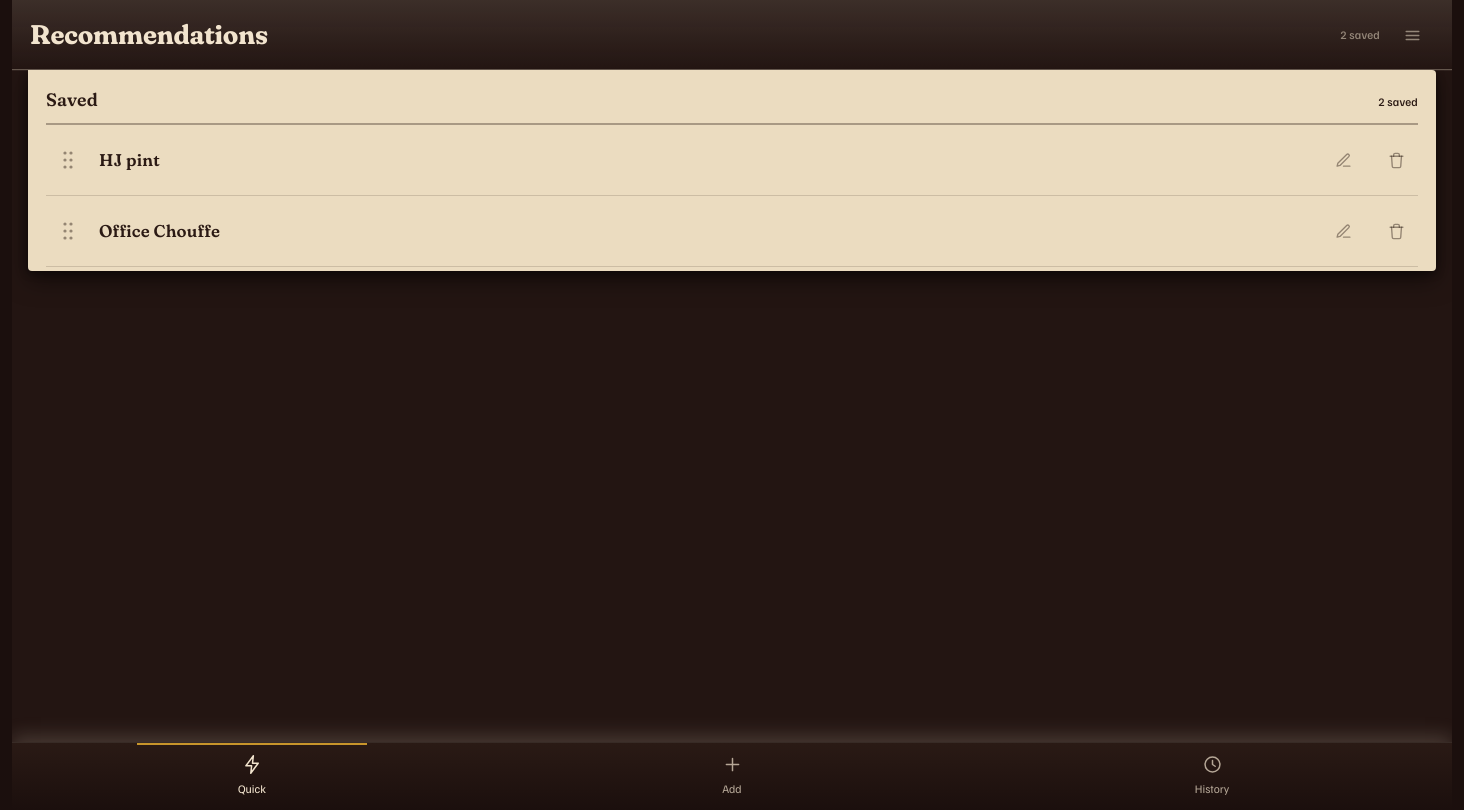
Test: RecommendationsPage › shows Save and Cancel once a name is renamed, and shows the new name
This screenshot has width=1464, height=810.
Check: the text "HJ pint" is shown, box [99, 149, 160, 170]
Click the button named "Rename HJ pint". click: (1343,160)
box: [1321, 138, 1365, 182]
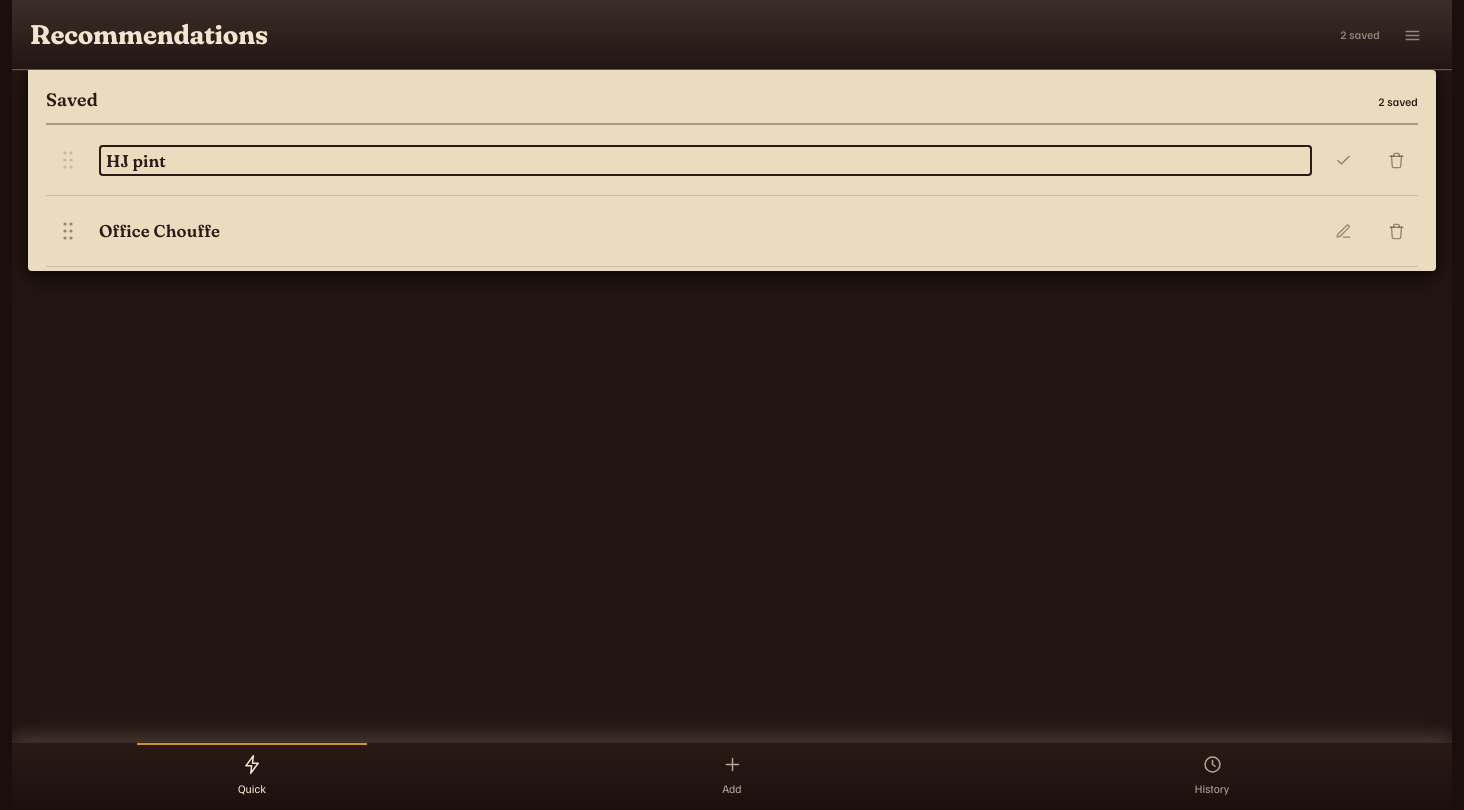
Replace the text in the field with "Home pint". click: (706,160)
box: [99, 144, 1312, 176]
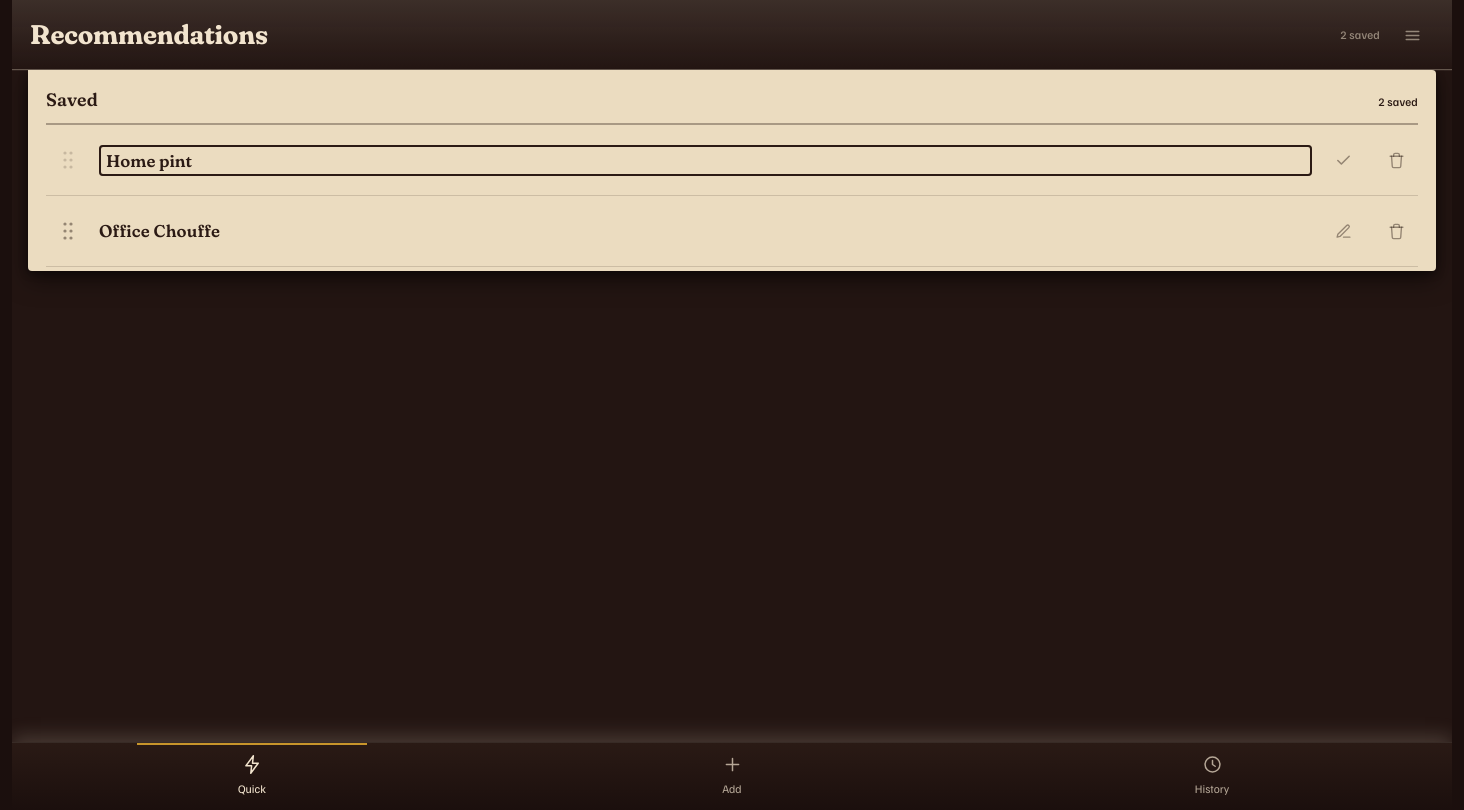
Click the button named "Save name for HJ pint". click: (1343,160)
box: [1321, 138, 1365, 182]
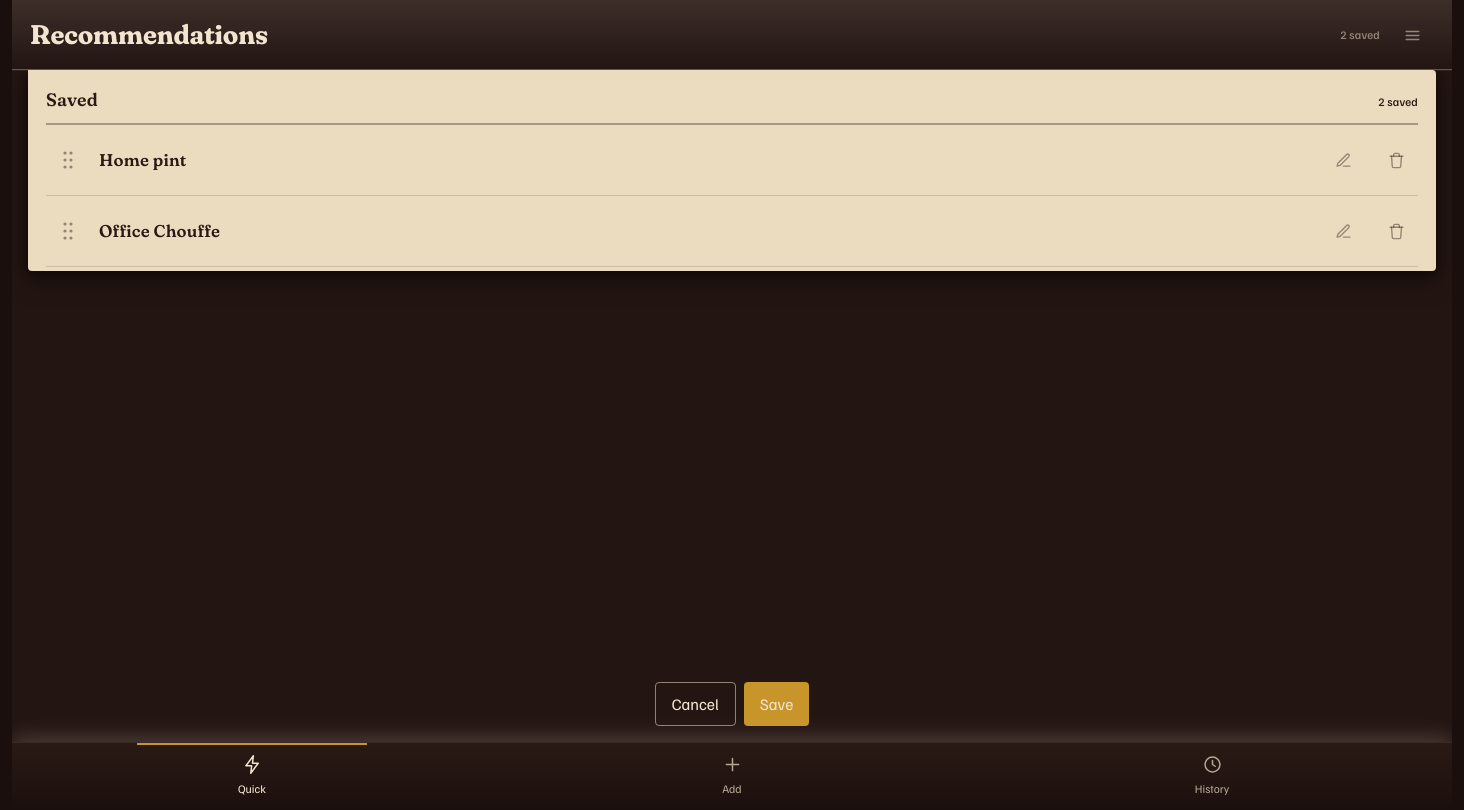
Check: the text "Home pint" is shown, box [99, 149, 187, 170]
Check: the button "Save" is shown, box [744, 682, 809, 726]
Check: the button "Cancel" is shown, box [655, 682, 736, 726]
